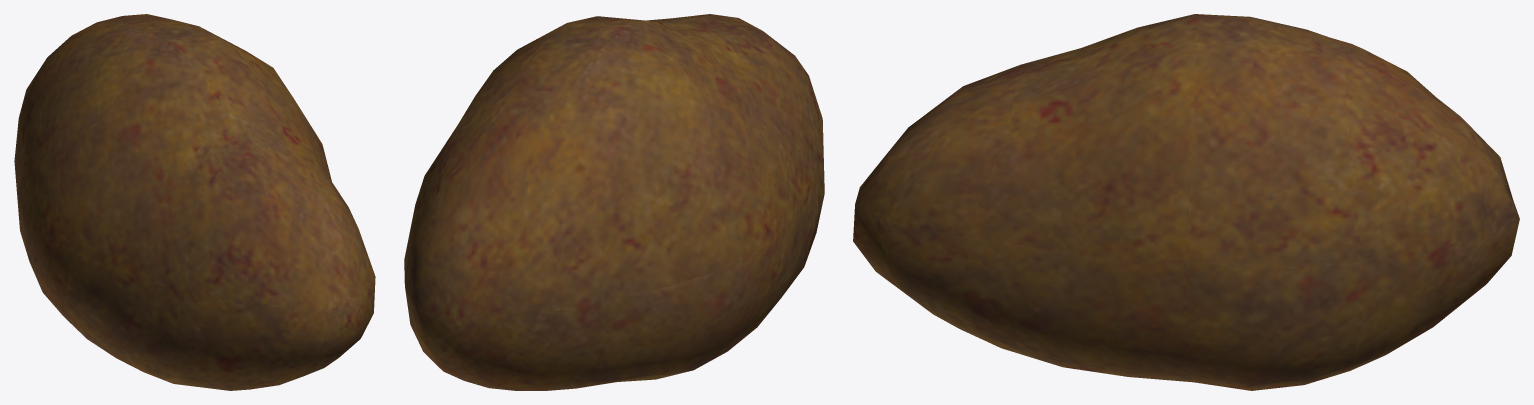
The model's file is Potato_4_potato_a4.obj.
The picture shows the model from 3 angles, left to right: view 1: azimuth 30°, elevation 25°; view 2: azimuth 150°, elevation 25°; view 3: azimuth 270°, elevation 25°; orthographic projection. The views are drawn at different scales.
Bounding box in the file's own units: 0.0605 × 0.0645 × 0.1152.
